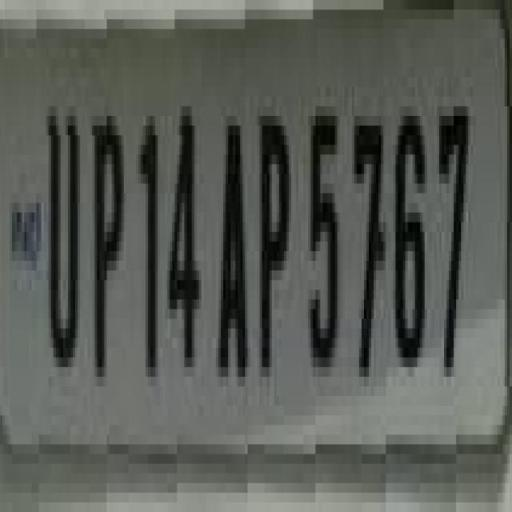number plate: (0, 9, 478, 464)
